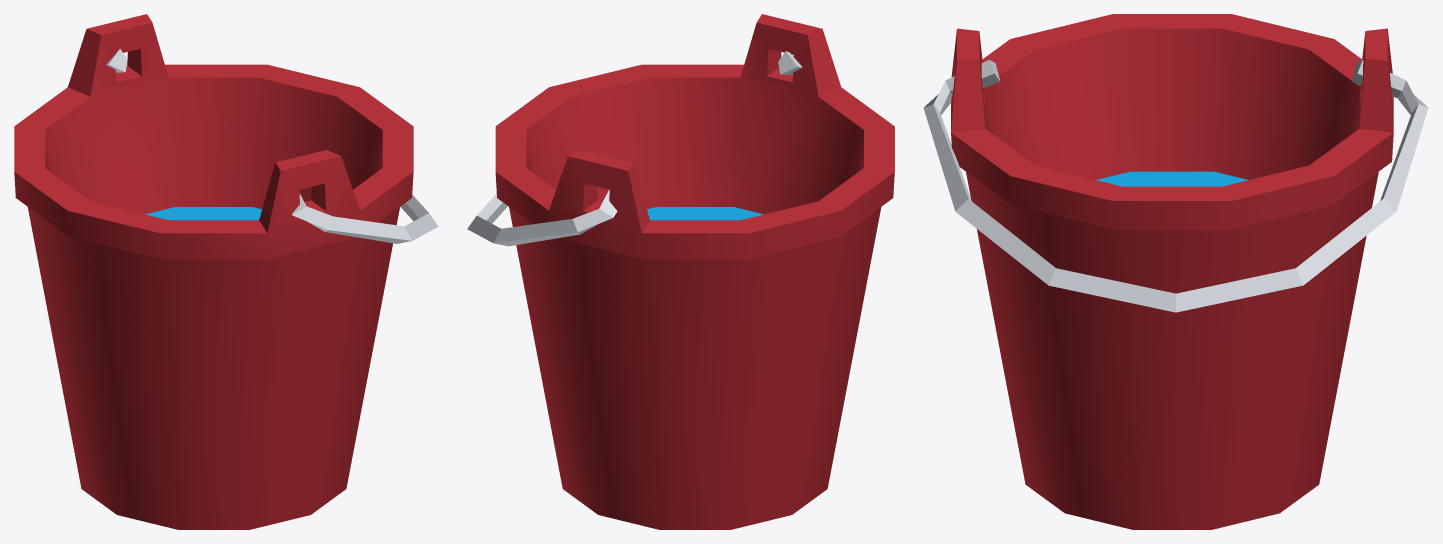
File: F_Bucket_001.fbx
The picture shows the model from 3 angles, left to right: view 1: azimuth 30°, elevation 25°; view 2: azimuth 150°, elevation 25°; view 3: azimuth 270°, elevation 25°; orthographic projection. The views are drawn at different scales.
Visible parts, largest first — view 1: F_Bucket_001; view 2: F_Bucket_001; view 3: F_Bucket_001.
Part boxes in pixels (x1=…): F_Bucket_001: x1=14, y1=14, x2=438, y2=529; F_Bucket_001: x1=467, y1=14, x2=894, y2=529; F_Bucket_001: x1=923, y1=14, x2=1428, y2=529.
Bounding box in the file's own units: 51.8 × 51.47 × 55.69.
